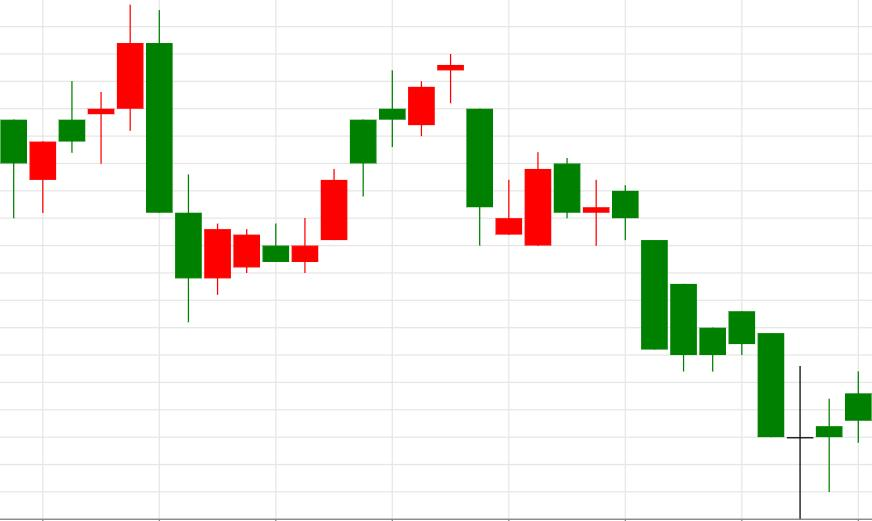evening_star_fall: (292, 54, 492, 272)
